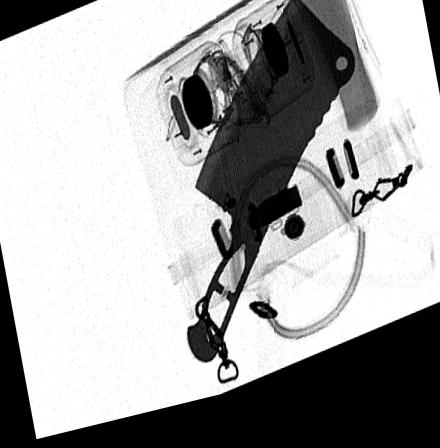Knife: (185, 6, 355, 373)
